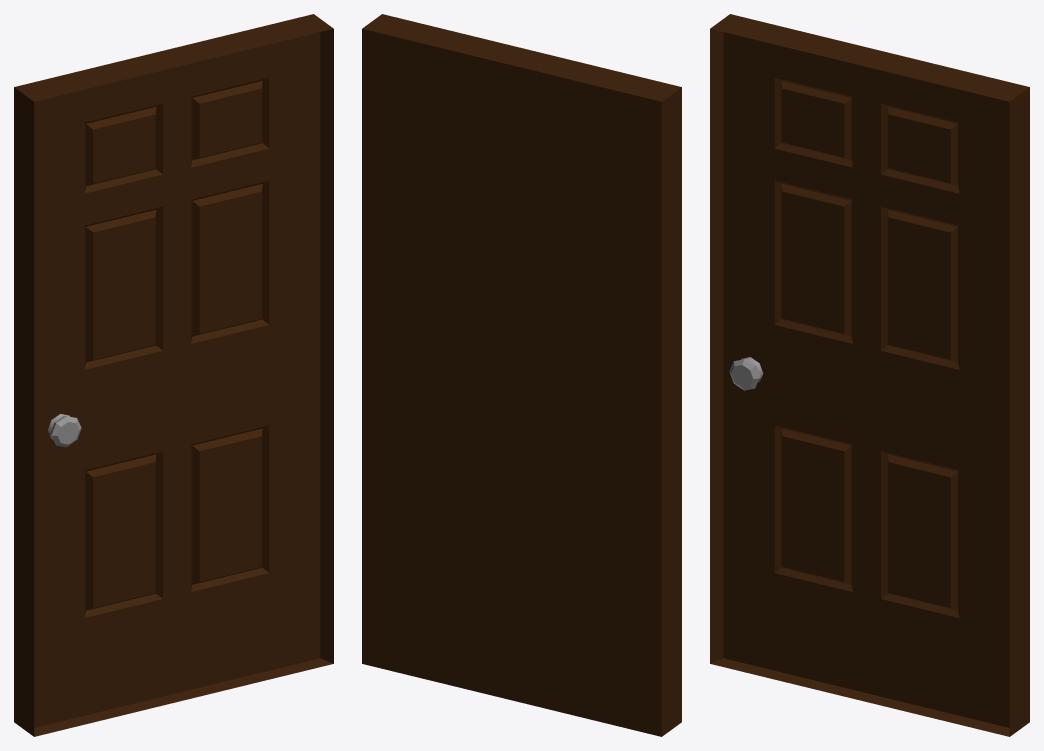
The model's file is PuertaCasa.FBX.
3 renders of one model, left to right at view 1: azimuth 30°, elevation 25°; view 2: azimuth 150°, elevation 25°; view 3: azimuth 330°, elevation 25°, orthographic.
Visible parts, largest first — view 1: PuertaCasa; view 2: PuertaCasa; view 3: PuertaCasa.
Part boxes in pixels (x1,y1,x2,y2): PuertaCasa: [14, 14, 333, 736]; PuertaCasa: [362, 14, 681, 736]; PuertaCasa: [710, 14, 1029, 736].
Bounding box in the file's own units: 3.77 × 7.64 × 0.4625.
